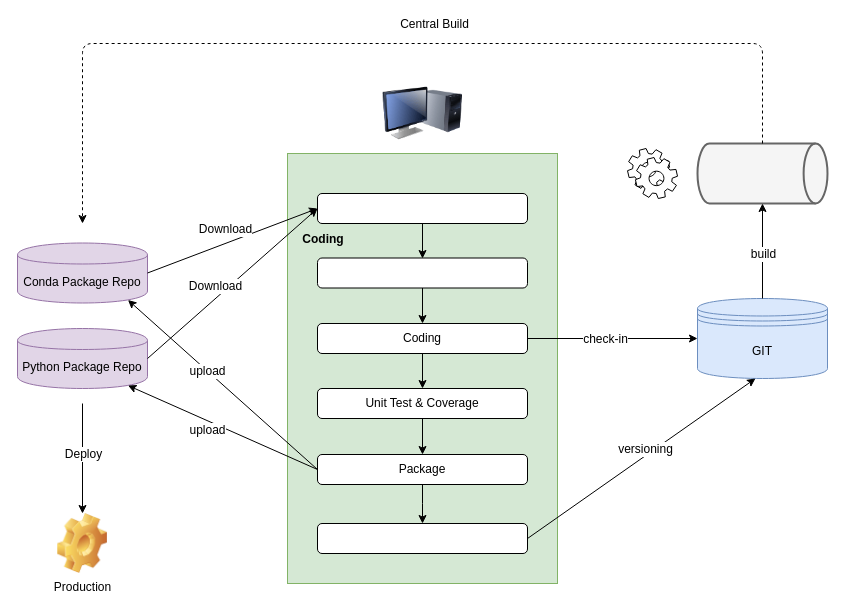
Some shapes in this 846 by 612 pixel diagram are drawn without their labels. The shapes that lost their labels are listed below. From the top down, each one's box as (x1, y1, x2, y2) in pixels, then its label:
(696, 142, 828, 204): Continuous Integration
(316, 192, 528, 224): Python Environment Setup
(316, 257, 528, 288): IDE / IntelliJ
(316, 522, 528, 554): Release
